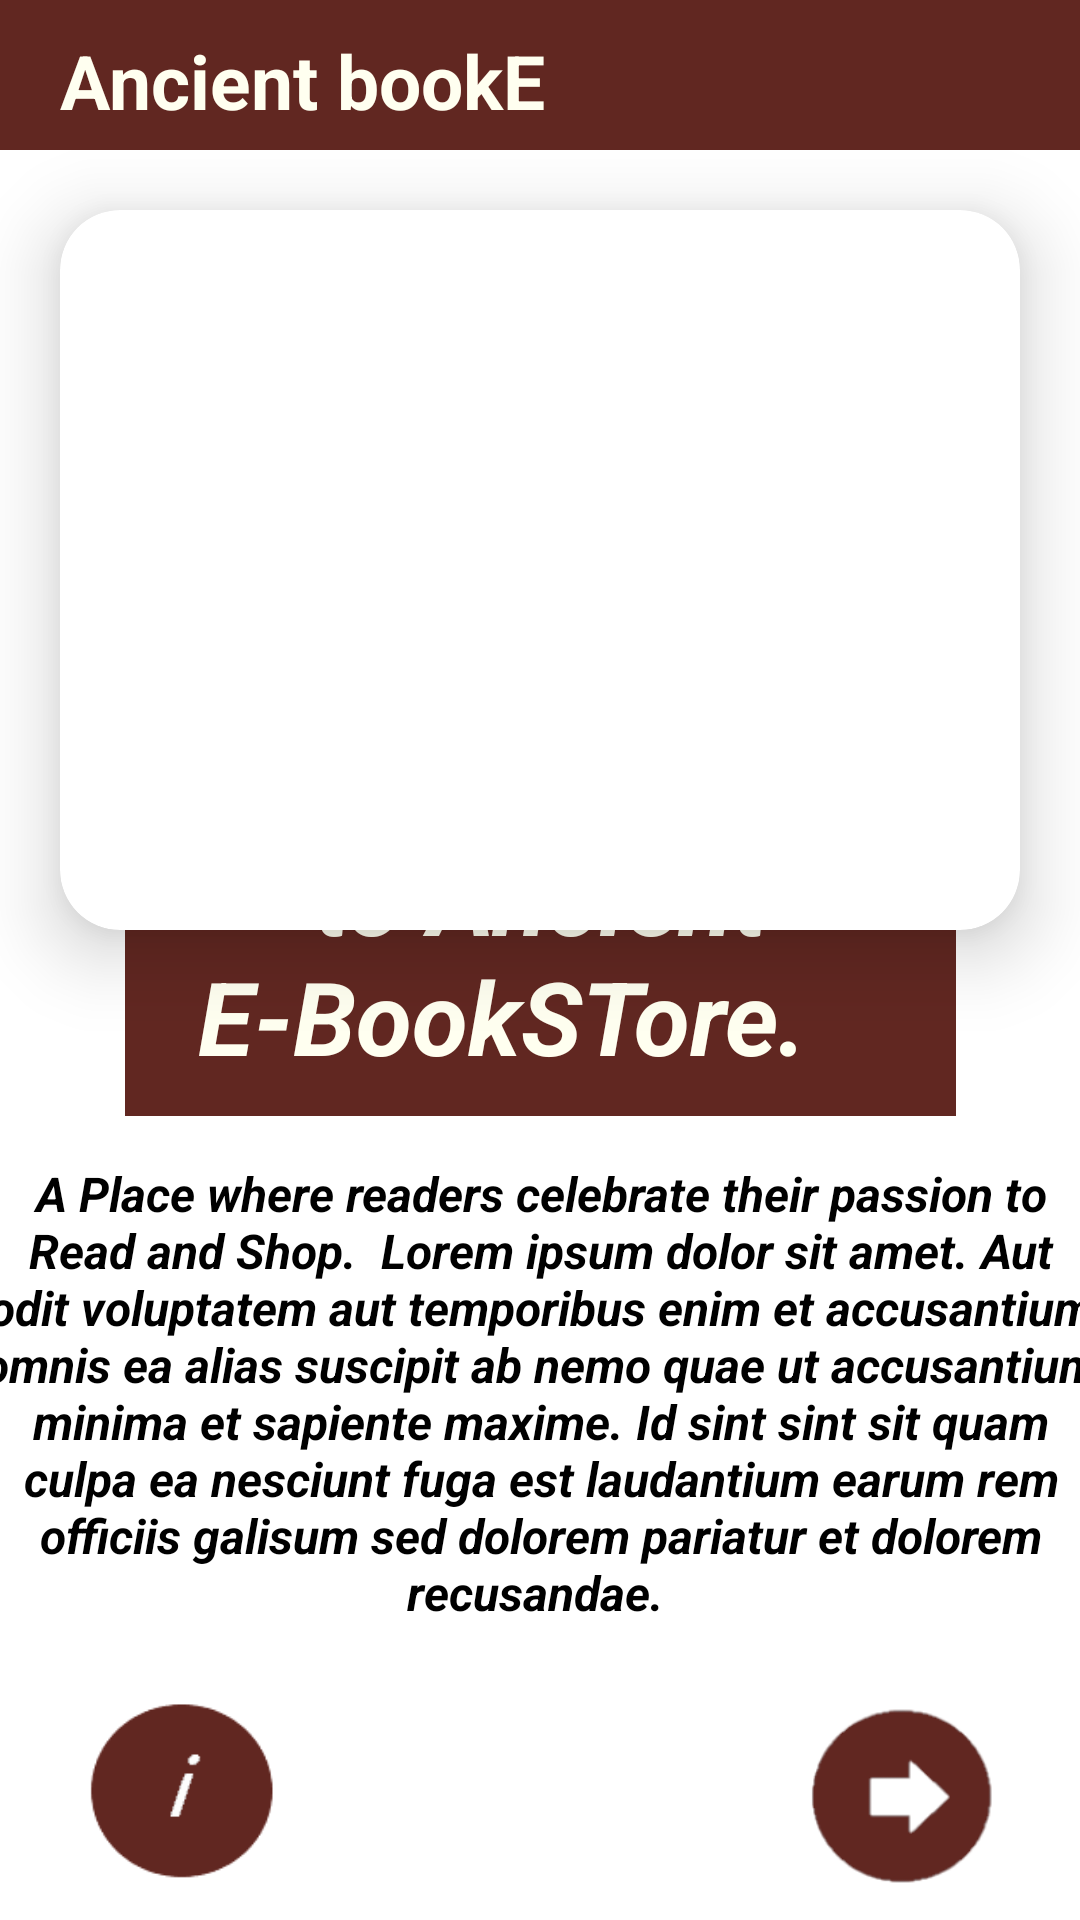

Screen size 1080 × 1920. Icon name, then its center in pixels as (x=x, y=y):
about: (x=181, y=1791)
nextbutton: (x=902, y=1796)
